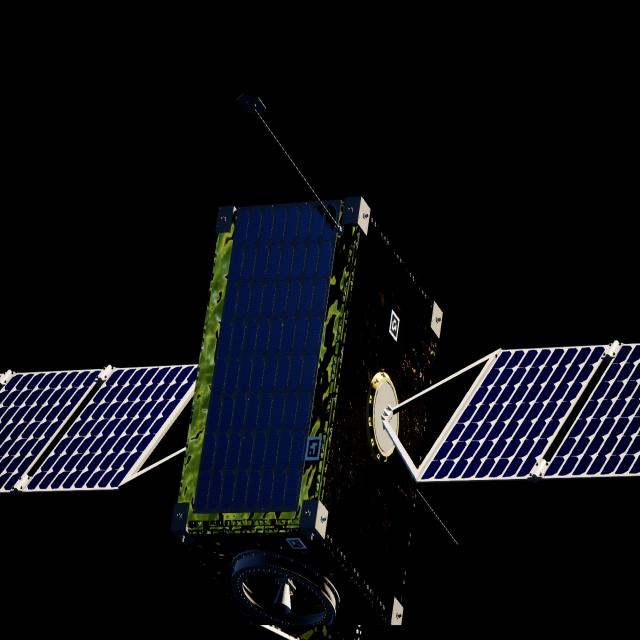medium_debris: (0, 197, 640, 640)
